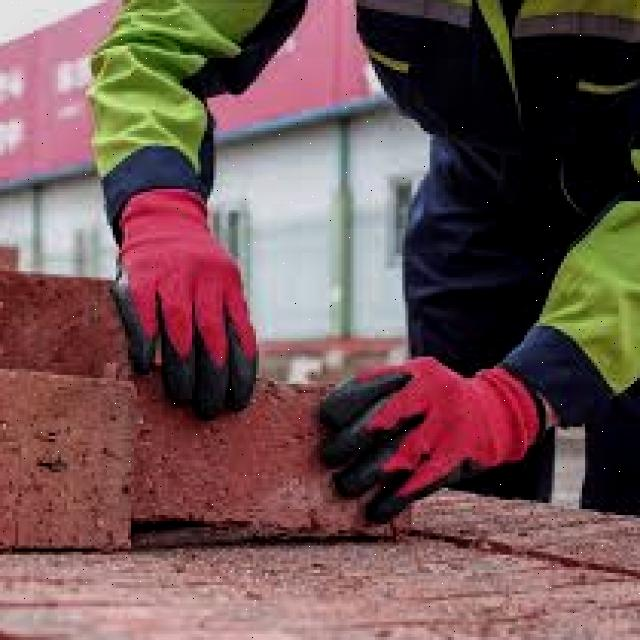Gloves: (321, 357, 543, 521), (114, 190, 255, 415)
Overall Suit: (357, 0, 640, 423), (90, 0, 304, 227)
